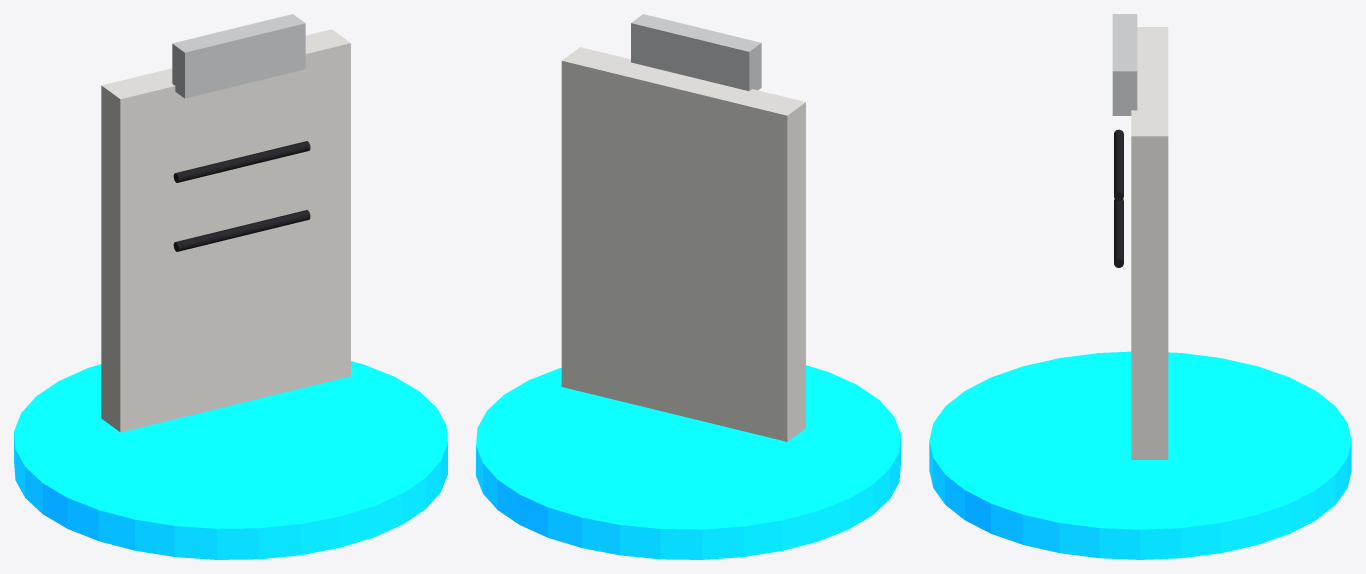
File: news_news_clipboard.glb
The picture shows the model from 3 angles, left to right: view 1: azimuth 30°, elevation 25°; view 2: azimuth 150°, elevation 25°; view 3: azimuth 270°, elevation 25°; orthographic projection. The views are drawn at different scales.
Visible parts, largest first — view 1: 09_20_Popular_News_News_Clipboard_part_01, 09_20_Popular_News_News_Clipboard_ROOT_base, 09_20_Popular_News_News_Clipboard_part_02, 09_20_Popular_News_News_Clipboard_part_04, 09_20_Popular_News_News_Clipboard_part_03; view 2: 09_20_Popular_News_News_Clipboard_part_01, 09_20_Popular_News_News_Clipboard_ROOT_base, 09_20_Popular_News_News_Clipboard_part_02; view 3: 09_20_Popular_News_News_Clipboard_ROOT_base, 09_20_Popular_News_News_Clipboard_part_01, 09_20_Popular_News_News_Clipboard_part_02, 09_20_Popular_News_News_Clipboard_part_03, 09_20_Popular_News_News_Clipboard_part_04.
Boxes of the visible parts, x1,y1,x2,y2 form: 09_20_Popular_News_News_Clipboard_part_01: [101, 29, 350, 432]; 09_20_Popular_News_News_Clipboard_ROOT_base: [14, 361, 447, 559]; 09_20_Popular_News_News_Clipboard_part_02: [172, 14, 305, 98]; 09_20_Popular_News_News_Clipboard_part_04: [173, 210, 310, 251]; 09_20_Popular_News_News_Clipboard_part_03: [173, 141, 310, 182]; 09_20_Popular_News_News_Clipboard_part_01: [561, 47, 805, 441]; 09_20_Popular_News_News_Clipboard_ROOT_base: [476, 365, 900, 559]; 09_20_Popular_News_News_Clipboard_part_02: [631, 14, 761, 90]; 09_20_Popular_News_News_Clipboard_ROOT_base: [929, 351, 1351, 559]; 09_20_Popular_News_News_Clipboard_part_01: [1131, 27, 1168, 459]; 09_20_Popular_News_News_Clipboard_part_02: [1112, 14, 1137, 115]; 09_20_Popular_News_News_Clipboard_part_03: [1114, 129, 1123, 200]; 09_20_Popular_News_News_Clipboard_part_04: [1114, 199, 1123, 267].
Bounding box in the file's own units: 0.76 × 0.85 × 0.76.
